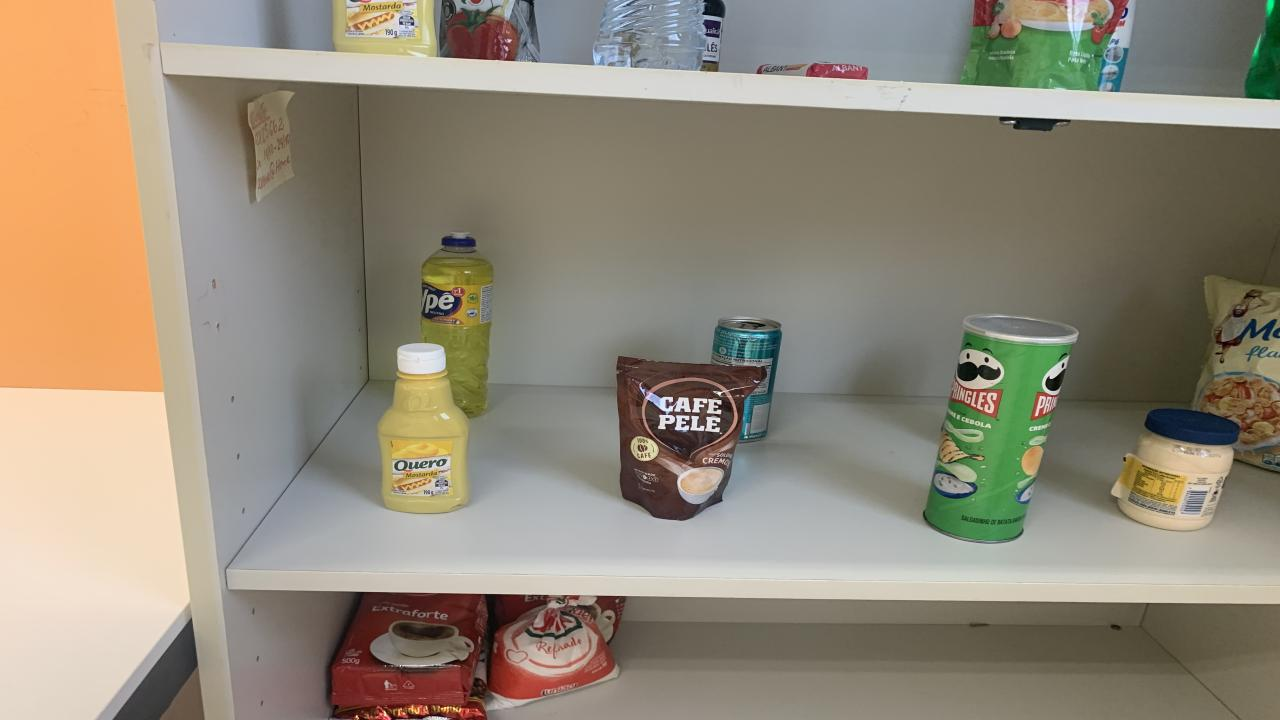Coffee-Pantry_Items: (618, 356, 768, 519)
Detergent-Cleanup_Items: (420, 234, 492, 416), (1245, 0, 1280, 99)
English_Sauce-Pantry_Items: (700, 0, 725, 71)
Flakes-Snacks: (1192, 276, 1280, 472)
Mayonnaise-Pantry_Items: (1112, 409, 1240, 531)
Mustard-Pantry_Items: (378, 343, 470, 514), (332, 0, 438, 56)
Pringles-Snacks: (925, 315, 1078, 542)
Soap-Cleanup_Items: (758, 62, 868, 81)
Tea-Drinks: (710, 317, 782, 442)
Tomato_Sauce-Pantry_Items: (960, 0, 1135, 90), (440, 0, 540, 62)
Water_Bottle-Drinks: (592, 0, 705, 69)
